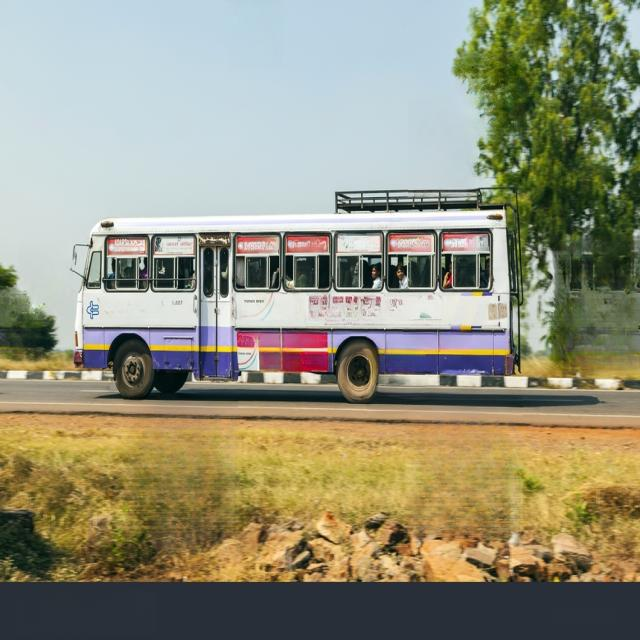bus: (74, 191, 521, 401)
